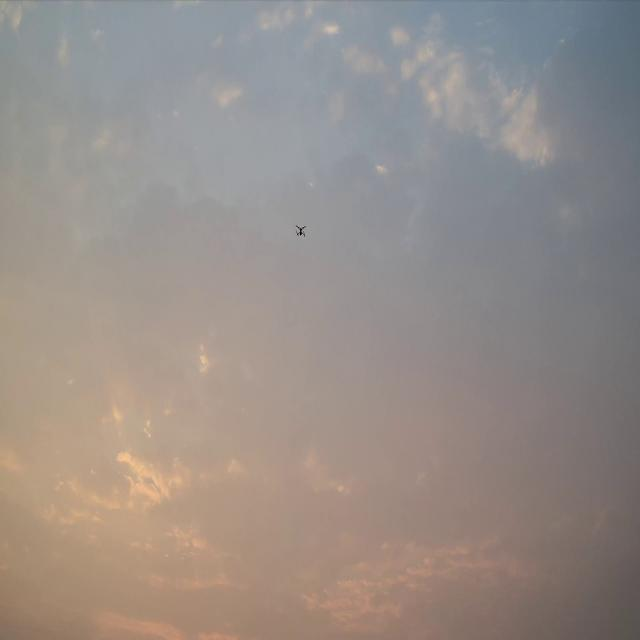drone: (295, 222, 308, 238)
